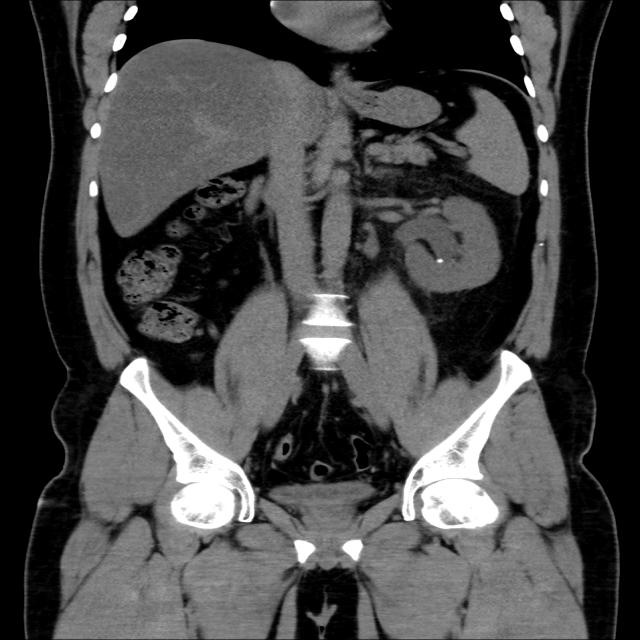kidneystone: (435, 259, 443, 263)
